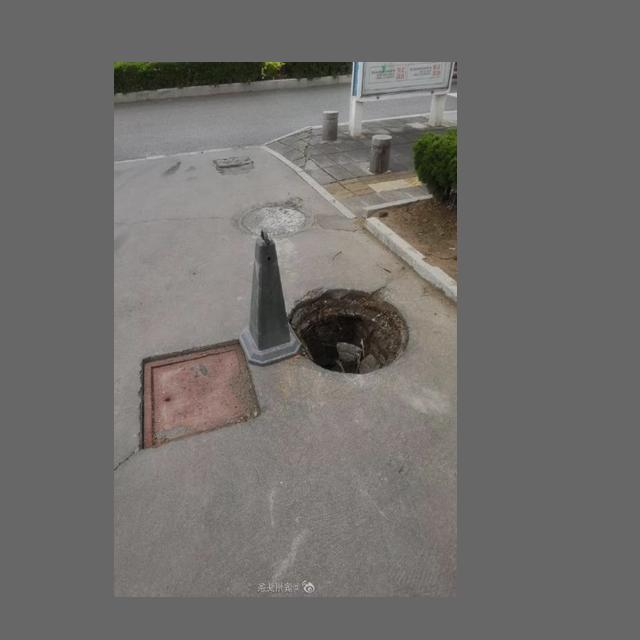lose: (285, 272, 409, 378)
